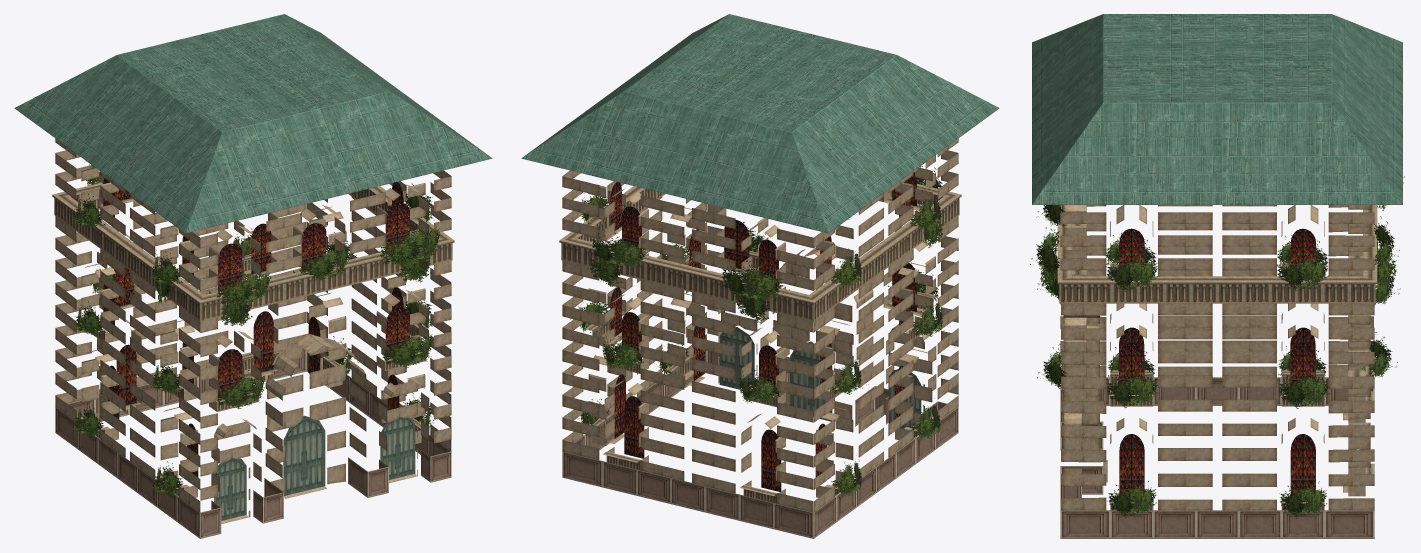
Rendered from thm_nboo_thed_imprv_building_s06_l0.fbx.
3 views of the same model, side by side, from view 1: azimuth 30°, elevation 25°; view 2: azimuth 150°, elevation 25°; view 3: azimuth 270°, elevation 25° (orthographic). The views are drawn at different scales.
Parts seen in each view (by area): view 1: mesh_node; view 2: mesh_node; view 3: mesh_node.
Part boxes in pixels (x1,y1,x2,y2): mesh_node: (14,14,492,538); mesh_node: (521,14,999,538); mesh_node: (1030,14,1404,538).
Size of the model in its own units: 16.83 by 19.99 by 16.56.
